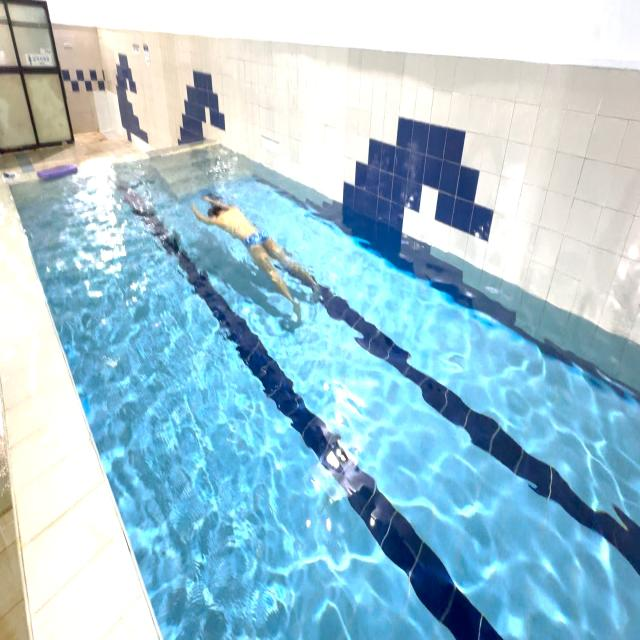Drowning: (190, 186, 328, 321)
